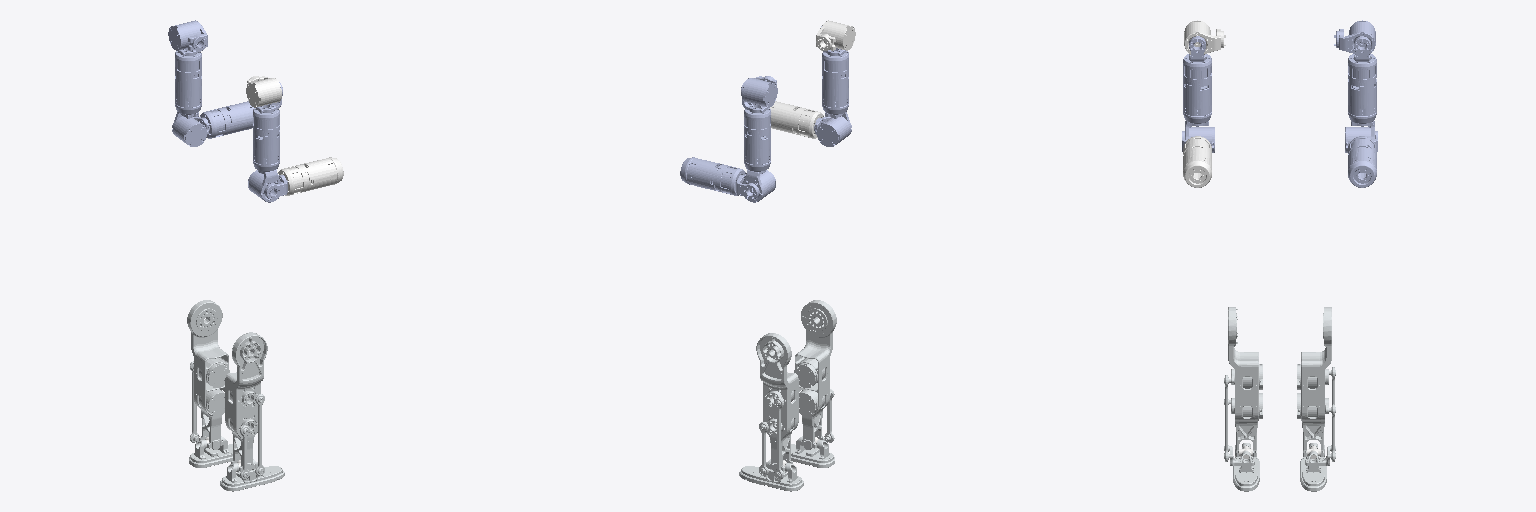
--- Facts derived from the render (not from the file) ---
Views: 3 orthographic renders of the robot side by side, from view 1: azimuth 30°, elevation 25°; view 2: azimuth 150°, elevation 25°; view 3: azimuth 270°, elevation 25°.
Model atom01urdf with 24 links and 23 joints (23 revolute), rooted at base_link, posed every joint at zero.
Visible links, largest first — view 1: left_knee_link, right_knee_link, left_arm_yaw_link, right_arm_yaw_link, right_elbow_yaw_link, left_elbow_yaw_link, right_ankle_roll_link, left_arm_pitch_link, right_arm_pitch_link, left_ankle_roll_link; view 2: right_knee_link, left_knee_link, right_arm_yaw_link, left_arm_yaw_link, left_elbow_yaw_link, right_elbow_yaw_link, left_ankle_roll_link, right_arm_pitch_link, left_arm_pitch_link, right_ankle_roll_link; view 3: left_knee_link, right_knee_link, left_arm_yaw_link, right_arm_yaw_link, right_elbow_yaw_link, left_elbow_yaw_link, left_ankle_roll_link, right_ankle_roll_link, right_arm_pitch_link, left_arm_pitch_link.
Boxes of the visible links, x1=… form: left_knee_link: x1=187, y1=300, x2=229, y2=449; right_knee_link: x1=225, y1=332, x2=267, y2=479; left_arm_yaw_link: x1=172, y1=51, x2=206, y2=146; right_arm_yaw_link: x1=248, y1=108, x2=281, y2=202; right_elbow_yaw_link: x1=278, y1=157, x2=343, y2=195; left_elbow_yaw_link: x1=200, y1=101, x2=253, y2=138; right_ankle_roll_link: x1=220, y1=459, x2=284, y2=491; left_arm_pitch_link: x1=168, y1=20, x2=207, y2=50; right_arm_pitch_link: x1=246, y1=76, x2=281, y2=107; left_ankle_roll_link: x1=189, y1=436, x2=232, y2=467; right_knee_link: x1=794, y1=300, x2=836, y2=449; left_knee_link: x1=756, y1=333, x2=798, y2=479; right_arm_yaw_link: x1=817, y1=51, x2=851, y2=146; left_arm_yaw_link: x1=742, y1=108, x2=775, y2=202; left_elbow_yaw_link: x1=680, y1=157, x2=745, y2=195; right_elbow_yaw_link: x1=770, y1=101, x2=823, y2=138; left_ankle_roll_link: x1=739, y1=459, x2=803, y2=491; right_arm_pitch_link: x1=816, y1=20, x2=855, y2=50; left_arm_pitch_link: x1=742, y1=76, x2=777, y2=107; right_ankle_roll_link: x1=791, y1=436, x2=834, y2=467; left_knee_link: x1=1297, y1=307, x2=1335, y2=461; right_knee_link: x1=1224, y1=307, x2=1262, y2=461; left_arm_yaw_link: x1=1345, y1=54, x2=1376, y2=152; right_arm_yaw_link: x1=1183, y1=54, x2=1214, y2=152; right_elbow_yaw_link: x1=1183, y1=136, x2=1211, y2=187; left_elbow_yaw_link: x1=1348, y1=136, x2=1376, y2=187; left_ankle_roll_link: x1=1300, y1=443, x2=1330, y2=491; right_ankle_roll_link: x1=1229, y1=443, x2=1259, y2=491; right_arm_pitch_link: x1=1184, y1=20, x2=1225, y2=54; left_arm_pitch_link: x1=1334, y1=20, x2=1375, y2=54.
Bounding box of the posed robot: 0.2422 × 0.4235 × 1.06 m (x, y, z).
Meshes: 24 distinct files referenced, 16 mesh visuals loaded (16 binary STL); not drawn: 8 (reference not matched to a file when rendering).

URDF robot description (atom01urdf):
<?xml version="1.0" encoding="utf-8"?>
<robot
  name="atom01urdf">
  <link
    name="base_link">
    <inertial>
    <mass value="5.38006123"/>
    <origin xyz="-0.04747316 -0.00000245 -0.01033754" rpy="0 0 0"/>
    <inertia ixx="0.03019625" ixy="0.00000001" ixz="-0.00325334"
             iyy="0.02710884" iyz="0.00000014"
             izz="0.04164465"/>
    </inertial>
    <visual>
      <origin
        xyz="0 0 0"
        rpy="0 0 0" />
      <geometry>
        <mesh
          filename="../meshes/base_link.STL" />
      </geometry>
      <material
        name="">
        <color
          rgba="0.898039215686275 0.917647058823529 0.929411764705882 1" />
      </material>
    </visual>
    <collision>
      <origin
        xyz="0 0 0"
        rpy="0 0 0" />
      <geometry>
        <mesh
          filename="../meshes/base_link.STL" />
      </geometry>
    </collision>
  </link>
  <link
    name="left_thigh_yaw_link">
    <inertial>
    <mass value="1.68866185"/>
    <origin xyz="-0.03860399 0.00000000 -0.05488876" rpy="0 0 0"/>
    <inertia ixx="0.00828412" ixy="0.00000001" ixz="-0.00427630"
             iyy="0.01007750" iyz="0.00000000"
             izz="0.00500466"/>
    </inertial>
    <visual>
      <origin
        xyz="0 0 0"
        rpy="0 0 0" />
      <geometry>
        <mesh
          filename="../meshes/left_thigh_yaw_link.STL" />
      </geometry>
      <material
        name="">
        <color
          rgba="0.898039215686275 0.917647058823529 0.929411764705882 1" />
      </material>
    </visual>
    <!-- <collision>
      <origin
        xyz="0 0 0"
        rpy="0 0 0" />
      <geometry>
        <mesh
          filename="../meshes/left_thigh_yaw_link.STL" />
      </geometry>
    </collision> -->
  </link>
  <joint
    name="left_thigh_yaw_joint"
    type="revolute">
    <origin
      xyz="-0.071093 0.0725 -0.051778"
      rpy="0 0 0" />
    <parent
      link="base_link" />
    <child
      link="left_thigh_yaw_link" />
    <axis
      xyz="-0.5 0 -0.86603" />    
    <limit
      lower="-1"
      upper="0.2"
      effort="80"
      velocity="10.47" />
  </joint>
  <link
    name="left_thigh_roll_link">
    <inertial>
    <mass value="1.71632646"/>
    <origin xyz="0.05565085 -0.00585964 -0.03213037" rpy="0 0 0"/>
    <inertia ixx="0.00408080" ixy="0.00060873" ixz="0.00328672"
             iyy="0.01086273" iyz="-0.00035146"
             izz="0.00787597"/>
    </inertial>
    <visual>
      <origin
        xyz="0 0 0"
        rpy="0 0 0" />
      <geometry>
        <mesh
          filename="../meshes/left_thigh_roll_link.STL" />
      </geometry>
      <material
        name="">
        <color
          rgba="0.752941176470588 0.752941176470588 0.752941176470588 1" />
      </material>
    </visual>
    <!-- <collision>
      <origin
        xyz="0 0 0"
        rpy="0 0 0" />
      <geometry>
        <mesh
          filename="../meshes/left_thigh_roll_link.STL" />
      </geometry>
    </collision> -->
  </link>
  <joint
    name="left_thigh_roll_joint"
    type="revolute">
    <origin
      xyz="-0.017693 0 -0.072346"
      rpy="0 0 0" />
    <parent
      link="left_thigh_yaw_link" />
    <child
      link="left_thigh_roll_link" />
    <axis
      xyz="0.86603 0 -0.5" />
    <limit
      lower="-0.2"
      upper="1"
      effort="80"
      velocity="10.47" />
  </joint>
  <link
    name="left_thigh_pitch_link">
    <inertial>
    <mass value="2.34600762"/>
    <origin xyz="0.00004587 -0.01904764 -0.19858147" rpy="0 0 0"/>
    <inertia ixx="0.11355467" ixy="-0.00000105" ixz="0.00003567"
             iyy="0.11410206" iyz="-0.01102469"
             izz="0.00388054"/>
    </inertial>
    <visual>
      <origin
        xyz="0 0 0"
        rpy="0 0 0" />
      <geometry>
        <mesh
          filename="../meshes/left_thigh_pitch_link.STL" />
      </geometry>
      <material
        name="">
        <color
          rgba="0.898039215686275 0.917647058823529 0.929411764705882 1" />
      </material>
    </visual>
    <!-- <collision>
      <origin
        xyz="0 0 0"
        rpy="0 0 0" />
      <geometry>
        <mesh
          filename="../meshes/left_thigh_pitch_link.STL" />
      </geometry>
    </collision> -->
    <collision>
      <origin
        xyz="0.0 0 -0.08"
        rpy="0 0 0" />
      <geometry>
        <box name="left_thigh_pitch_link" size="0.08 0.1 0.22"/>
      </geometry>
    </collision>
  </link>
  <joint
    name="left_thigh_pitch_joint"
    type="revolute">
    <origin
      xyz="0.060622 0.02085 -0.035"
      rpy="0 0 0" />
    <parent
      link="left_thigh_roll_link" />
    <child
      link="left_thigh_pitch_link" />
    <axis
      xyz="0 1 0" />
    <limit
      lower="-1.57"
      upper="1.57"
      effort="80"
      velocity="10.47" />
  </joint>
  <link
    name="left_knee_link">
    <inertial>
    <mass value="1.79036871"/>
    <origin xyz="-0.00032236 -0.01251629 -0.14554011" rpy="0 0 0"/>
    <inertia ixx="0.05037722" ixy="0.00001321" ixz="-0.00005629"
             iyy="0.04980070" iyz="-0.00362648"
             izz="0.00144706"/>
    </inertial>
    <visual>
      <origin
        xyz="0 0 0"
        rpy="0 0 0" />
      <geometry>
        <mesh
          filename="../meshes/left_knee_link.STL" />
      </geometry>
      <material
        name="">
        <color
          rgba="0.898039215686275 0.917647058823529 0.929411764705882 1" />
      </material>
    </visual>
    <!-- <collision>
      <origin
        xyz="0 0 0"
        rpy="0 0 0" />
      <geometry>
        <mesh
          filename="../meshes/left_knee_link.STL" />
      </geometry>
    </collision> -->
    <collision>
      <origin
        xyz="0.0 0 -0.15"
        rpy="0 0 0" />
      <geometry>
        <box name="right_knee_link" size="0.08 0.08 0.22"/>
      </geometry>
    </collision>
  </link>
  <joint
    name="left_knee_joint"
    type="revolute">
    <origin
      xyz="0 0 -0.25"
      rpy="0 0 0" />
    <parent
      link="left_thigh_pitch_link" />
    <child
      link="left_knee_link" />
    <axis
      xyz="0 1 0" />
    <limit
      lower="-0.2"
      upper="2.5"
      effort="80"
      velocity="10.47" />
  </joint>
  <link
    name="left_ankle_pitch_link">
    <inertial>
      <origin
        xyz="0 0 0"
        rpy="0 0 0" />
      <mass
        value="0.084" />
      <inertia
        ixx="0.00000863"
        ixy="0"
        ixz="0"
        iyy="0.00000863"
        iyz="0"
        izz="0.00001448" />
    </inertial>
    <visual>
      <origin
        xyz="0 0 0"
        rpy="0 0 0" />
      <geometry>
        <mesh
          filename="../meshes/left_ankle_pitch_link.STL" />
      </geometry>
      <material
        name="">
        <color
          rgba="1 1 1 1" />
      </material>
    </visual>
    <!-- <collision>
      <origin
        xyz="0 0 0"
        rpy="0 0 0" />
      <geometry>
        <mesh
          filename="../meshes/left_ankle_pitch_link.STL" />
      </geometry>
    </collision> -->
  </link>
  <joint
    name="left_ankle_pitch_joint"
    type="revolute">
    <origin
      xyz="0 -0.02085 -0.3"
      rpy="0 0 0" />
    <parent
      link="left_knee_link" />
    <child
      link="left_ankle_pitch_link" />
    <axis
      xyz="0 1 0" />
    <limit
      lower="-0.6"
      upper="0.6"
      effort="18"
      velocity="3.7692" />
  </joint>
  <link
    name="left_ankle_roll_link">
    <inertial>
      <origin
        xyz="0.01590617  0.00230268 -0.02949007"
        rpy="0 0 0" />
      <mass
        value="0.30640039 " />
      <inertia ixx="0.00038476" ixy="0.0" ixz="0.00017084"
           iyy="0.00086435" iyz="0.00000894"
           izz="0.00063926"/>
    </inertial>
    <visual>
      <origin
        xyz="0 0 0"
        rpy="0 0 0" />
      <geometry>
        <mesh
          filename="../meshes/left_ankle_roll_link.STL" />
      </geometry>
      <material
        name="">
        <color
          rgba="0.898039215686275 0.917647058823529 0.929411764705882 1" />
      </material>
    </visual>
    <collision>
      <origin
        xyz="0 0 0"
        rpy="0 0 0" />
      <geometry>
        <mesh
          filename="../meshes/left_ankle_roll_link.STL" />
      </geometry>
    </collision>
  </link>
  <joint
    name="left_ankle_roll_joint"
    type="revolute">
    <origin
      xyz="0 0 0"
      rpy="0 0 0" />
    <parent
      link="left_ankle_pitch_link" />
    <child
      link="left_ankle_roll_link" />
    <axis
      xyz="1 0 0" />
    <limit
      lower="-0.5"
      upper="0.5"
      effort="18"
      velocity="3.7692" />
  </joint>
  <link
    name="right_thigh_yaw_link">
    <inertial>
    <mass value="1.68565743"/>
    <origin xyz="-0.03859500 0.00000000 -0.05502715" rpy="0 0 0"/>
    <inertia ixx="0.00828370" ixy="0.00000001" ixz="-0.00427632"
             iyy="0.01007691" iyz="0.00000000"
             izz="0.00500350"/>
    </inertial>
    <visual>
      <origin
        xyz="0 0 0"
        rpy="0 0 0" />
      <geometry>
        <mesh
          filename="../meshes/right_thigh_yaw_link.STL" />
      </geometry>
      <material
        name="">
        <color
          rgba="0.898039215686275 0.917647058823529 0.929411764705882 1" />
      </material>
    </visual>
    <!-- <collision>
      <origin
        xyz="0 0 0"
        rpy="0 0 0" />
      <geometry>
        <mesh
          filename="../meshes/right_thigh_yaw_link.STL" />
      </geometry>
    </collision> -->
  </link>
  <joint
    name="right_thigh_yaw_joint"
    type="revolute">
    <origin
      xyz="-0.071093 -0.0725 -0.051778"
      rpy="0 0 0" />
    <parent
      link="base_link" />
    <child
      link="right_thigh_yaw_link" />
    <axis
      xyz="-0.5 0 -0.86603" />
    <limit
      lower="-0.2"
      upper="1"
      effort="80"
      velocity="10.47" />
  </joint>
  <link
    name="right_thigh_roll_link">
    <inertial>
    <mass value="1.71632646"/>
    <origin xyz="0.05695017 0.00585964 -0.03287986" rpy="0 0 0"/>
    <inertia ixx="0.00416447" ixy="-0.00062180" ixz="0.00343166"
             iyy="0.01119747" iyz="0.00035899"
             izz="0.00812703"/>
    </inertial>
    <visual>
      <origin
        xyz="0 0 0"
        rpy="0 0 0" />
      <geometry>
        <mesh
          filename="../meshes/right_thigh_roll_link.STL" />
      </geometry>
      <material
        name="">
        <color
          rgba="0.898039215686275 0.917647058823529 0.929411764705882 1" />
      </material>
    </visual>
    <!-- <collision>
      <origin
        xyz="0 0 0"
        rpy="0 0 0" />
      <geometry>
        <mesh
          filename="../meshes/right_thigh_roll_link.STL" />
      </geometry>
    </collision> -->
  </link>
  <joint
    name="right_thigh_roll_joint"
    type="revolute">
    <origin
      xyz="-0.0189924084475403 0 -0.0715958163677252"
      rpy="0 0 0" />
    <parent
      link="right_thigh_yaw_link" />
    <child
      link="right_thigh_roll_link" />
    <axis
      xyz="0.86603 0 -0.5" />
    <limit
      lower="-1"
      upper="0.2"
      effort="80"
      velocity="10.47" />
  </joint>
  <link
    name="right_thigh_pitch_link">
    <inertial>
    <mass value="2.34600762"/>
    <origin xyz="0.00004584 0.01904764 -0.19858147" rpy="0 0 0"/>
    <inertia ixx="0.11355467" ixy="0.00000105" ixz="0.00003566"
             iyy="0.11410206" iyz="0.01102469"
             izz="0.00388054"/>
    </inertial>
    <visual>
      <origin
        xyz="0 0 0"
        rpy="0 0 0" />
      <geometry>
        <mesh
          filename="../meshes/right_thigh_pitch_link.STL" />
      </geometry>
      <material
        name="">
        <color
          rgba="0.898039215686275 0.917647058823529 0.929411764705882 1" />
      </material>
    </visual>
    <!-- <collision>
      <origin
        xyz="0 0 0"
        rpy="0 0 0" />
      <geometry>
        <mesh
          filename="../meshes/right_thigh_pitch_link.STL" />
      </geometry>
    </collision> -->
     <collision>
      <origin
        xyz="0.0 0 -0.08"
        rpy="0 0 0" />
      <geometry>
        <box name="right_thigh_pitch_link" size="0.08 0.1 0.22"/>
      </geometry>
    </collision>
  </link>
  <joint
    name="right_thigh_pitch_joint"
    type="revolute">
    <origin
      xyz="0.0619208163652291 -0.0208499999999942 -0.0357500000093095"
      rpy="0 0 0" />
    <parent
      link="right_thigh_roll_link" />
    <child
      link="right_thigh_pitch_link" />
    <axis
      xyz="0 1 0" />
    <limit
      lower="-1.57"
      upper="1.57"
      effort="80"
      velocity="10.47" />
  </joint>
  <link
    name="right_knee_link">
    <inertial>
    <mass value="1.79036871"/>
    <origin xyz="0.00034876 0.01251629 -0.14550316" rpy="0 0 0"/>
    <inertia ixx="0.05035671" ixy="0.00001321" ixz="0.00006361"
             iyy="0.04978019" iyz="0.00362648"
             izz="0.00144706"/>
    </inertial>
    <visual>
      <origin
        xyz="0 0 0"
        rpy="0 0 0" />
      <geometry>
        <mesh
          filename="../meshes/right_knee_link.STL" />
      </geometry>
      <material
        name="">
        <color
          rgba="0.898039215686275 0.917647058823529 0.929411764705882 1" />
      </material>
    </visual>
    <!-- <collision>
      <origin
        xyz="0 0 0"
        rpy="0 0 0" />
      <geometry>
        <mesh
          filename="../meshes/right_knee_link.STL" />
      </geometry>
    </collision> -->
    <collision>
      <origin
        xyz="0.0 0 -0.15"
        rpy="0 0 0" />
      <geometry>
        <box name="right_knee_link" size="0.08 0.08 0.22"/>
      </geometry>
    </collision>
  </link>
  <joint
    name="right_knee_joint"
    type="revolute">
    <origin
      xyz="0 0 -0.250000000000016"
      rpy="0 0 0" />
    <parent
      link="right_thigh_pitch_link" />
    <child
      link="right_knee_link" />
    <axis
      xyz="0 1 0" />
    <limit
      lower="-0.2"
      upper="2.5"
      effort="80"
      velocity="10.47" />
  </joint>
  <link
    name="right_ankle_pitch_link">
    <inertial>
      <origin
        xyz="0 0 0"
        rpy="0 0 0" />
      <mass
        value="0.084" />
      <inertia
        ixx="0.00000863"
        ixy="0"
        ixz="0"
        iyy="0.00000863"
        iyz="0"
        izz="0.00001448" />
    </inertial>
    <visual>
      <origin
        xyz="0 0 0"
        rpy="0 0 0" />
      <geometry>
        <mesh
          filename="../meshes/right_ankle_pitch_link.STL" />
      </geometry>
      <material
        name="">
        <color
          rgba="1 1 1 1" />
      </material>
    </visual>
    <!-- <collision>
      <origin
        xyz="0 0 0"
        rpy="0 0 0" />
      <geometry>
        <mesh
          filename="../meshes/right_ankle_pitch_link.STL" />
      </geometry>
    </collision> -->
  </link>
  <joint
    name="right_ankle_pitch_joint"
    type="revolute">
    <origin
      xyz="0 0.0208500000000073 -0.299999999999986"
      rpy="0 0 0" />
    <parent
      link="right_knee_link" />
    <child
      link="right_ankle_pitch_link" />
    <axis
      xyz="0 1 0" />
    <limit
      lower="-0.6"
      upper="0.6"
      effort="18"
      velocity="3.7692" />
  </joint>
  <link
    name="right_ankle_roll_link">
    <inertial>
      <origin
        xyz="0.01590617 -0.00230290  -0.02949007"
        rpy="0 0 0" />
      <mass
        value=" 0.30640039" />
       <inertia ixx="0.00038476" ixy="0.00000000" ixz="0.00017084"
           iyy="0.00086435" iyz="-0.00000894"
           izz="0.00063926"/>
    </inertial>
    <visual>
      <origin
        xyz="0 0 0"
        rpy="0 0 0" />
      <geometry>
        <mesh
          filename="../meshes/right_ankle_roll_link.STL" />
      </geometry>
      <material
        name="">
        <color
          rgba="0.898039215686275 0.917647058823529 0.929411764705882 1" />
      </material>
    </visual>
    <collision>
      <origin
        xyz="0 0 0"
        rpy="0 0 0" />
      <geometry>
        <mesh
          filename="../meshes/right_ankle_roll_link.STL" />
      </geometry>
    </collision>
  </link>
  <joint
    name="right_ankle_roll_joint"
    type="revolute">
    <origin
      xyz="0 0 0"
      rpy="0 0 0" />
    <parent
      link="right_ankle_pitch_link" />
    <child
      link="right_ankle_roll_link" />
    <axis
      xyz="1 0 0" />
    <limit
      lower="-0.5"
      upper="0.5"
      effort="18"
      velocity="3.7692" />
  </joint>
  <link
    name="torso_link">
    <inertial>
      <origin
        xyz=" -0.00232713 -0.00003499 0.09671181"
        rpy="0 0 0" />
      <mass
        value="7.70005232 " />
       <inertia ixx="0.14285885" ixy="-0.00004101" ixz="0.00400640"
           iyy="0.13043257" iyz="0.00003257"
           izz="0.03968469"/>
    </inertial>
    <visual>
      <origin
        xyz="0 0 0"
        rpy="0 0 0" />
      <geometry>
        <mesh
          filename="../meshes/torso_link.STL" />
      </geometry>
      <material
        name="">
        <color
          rgba="1 1 1 1" />
      </material>
    </visual>
    <collision>
      <origin
        xyz="0 0 0.15"
        rpy="0 0 0" />
      <geometry>
        <box name="torso_link" size="0.16 0.16 0.22"/>
      </geometry>
    </collision>
  </link>
  <joint
    name="torso_joint"
    type="revolute">
    <origin
      xyz="-0.0281649492242451 0 0.0672000000054882"
      rpy="0 0 0" />
    <parent
      link="base_link" />
    <child
      link="torso_link" />
    <axis
      xyz="0 0 1" />
    <limit
      lower="-3.14"
      upper="3.14"
      effort="80"
      velocity="10.47" />
  </joint>
  <link
    name="left_arm_pitch_link">
    <inertial>
    <mass value="0.47178757"/>
    <origin xyz="-0.00442275 0.04993792 0.00005596" rpy="0 0 0"/>
    <inertia ixx="0.00133228" ixy="0.00012643" ixz="-0.00000056"
             iyy="0.00008982" iyz="-0.00000148"
             izz="0.00137408"/>
    </inertial>
    <visual>
      <origin
        xyz="0 0 0"
        rpy="0 0 0" />
      <geometry>
        <mesh
          filename="../meshes/left_arm_pitch_link.STL" />
      </geometry>
      <material
        name="">
        <color
          rgba="0.796078431372549 0.823529411764706 0.937254901960784 1" />
      </material>
    </visual>
    <collision>
      <origin
        xyz="0 0.055 0"
        rpy="0 1.57 0" />
      <geometry>
         <cylinder radius="0.03" length="0.05"/>
      </geometry>
    </collision>
  </link>
  <joint
    name="left_arm_pitch_joint"
    type="revolute">
    <origin
      xyz="0 0.121749999999383 0.206175860782433"
      rpy="0 0 0" />
    <parent
      link="torso_link" />
    <child
      link="left_arm_pitch_link" />
    <axis
      xyz="0 1 0" />
    <limit
      lower="-3.14"
      upper="1.57"
      effort="18"
      velocity="3.7692" />
  </joint>
  <link
    name="left_arm_roll_link">
    <inertial>
      <origin
        xyz="-0.00433076 0 -0.02378501"
        rpy="0 0 0" />
      <mass
        value="0.09168685" />
     <inertia ixx="0.00010210" ixy="0.0" ixz="-0.00002948"
           iyy="0.00011636" iyz="0.0"
           izz="0.00003231"/>
    </inertial>
    <visual>
      <origin
        xyz="0 0 0"
        rpy="0 0 0" />
      <geometry>
        <mesh
          filename="../meshes/left_arm_roll_link.STL" />
      </geometry>
      <material
        name="">
        <color
          rgba="0.796078431372549 0.823529411764706 0.937254901960784 1" />
      </material>
    </visual>
    <collision>
      <origin
        xyz="-0.02 0 -0.12"
        rpy="0 0 0" />
      <geometry>
         <cylinder radius="0.03" length="0.10"/>
      </geometry>
    </collision>
  </link>
  <joint
    name="left_arm_roll_joint"
    type="revolute">
    <origin
      xyz="0.0200000000000018 0.056 0"
      rpy="0 0 0" />
    <parent
      link="left_arm_pitch_link" />
    <child
      link="left_arm_roll_link" />
    <axis
      xyz="1 0 0" />
    <limit
      lower="-0.25"
      upper="3.14"
      effort="18"
      velocity="3.7692" />
  </joint>
  <link
    name="left_arm_yaw_link">
    <inertial>
    <mass value="1.15324429"/>
    <origin xyz="-0.00004328 -0.00182110 -0.10615897" rpy="0 0 0"/>
    <inertia ixx="0.01919610" ixy="-0.00000011" ixz="-0.00000607"
             iyy="0.01915491" iyz="-0.00040415"
             izz="0.00033463"/>
    </inertial>
    <visual>
      <origin
        xyz="0 0 0"
        rpy="0 0 0" />
      <geometry>
        <mesh
          filename="../meshes/left_arm_yaw_link.STL" />
      </geometry>
      <material
        name="">
        <color
          rgba="0.796078431372549 0.823529411764706 0.937254901960784 1" />
      </material>
    </visual>
    <collision>
      <origin
        xyz="0 0 -0.19"
        rpy="0 1.57 1.57" />
      <geometry>
        <cylinder radius="0.03" length="0.05"/>
      </geometry>
    </collision>
  </link>
  <joint
    name="left_arm_yaw_joint"
    type="revolute">
    <origin
      xyz="-0.0200000000000002 0 -0.049999999999998"
      rpy="0 0 0" />
    <parent
      link="left_arm_roll_link" />
    <child
      link="left_arm_yaw_link" />
    <axis
      xyz="0 0 -1" />
    <limit
      lower="-1.57"
      upper="1.57"
      effort="18"
      velocity="3.7692" />
  </joint>
  <link
    name="left_elbow_pitch_link">
    <inertial>
      <origin
        xyz="0.02378501 -0.00433076  0.00000000"
        rpy="0 0 0" />
      <mass
        value="0.09168685" />
       <inertia ixx="0.00003231" ixy="0.00002948" ixz="0.0"
           iyy="0.00010210" iyz="0.0"
           izz="0.00011636"/>
    </inertial>
    <visual>
      <origin
        xyz="0 0 0"
        rpy="0 0 0" />
      <geometry>
        <mesh
          filename="../meshes/left_elbow_pitch_link.STL" />
      </geometry>
      <material
        name="">
        <color
          rgba="0.796078431372549 0.823529411764706 0.937254901960784 1" />
      </material>
    </visual>
    <collision>
      <origin
        xyz="0.10 -0.02 0"
        rpy="0 1.57 0" />
      <geometry>
          <cylinder radius="0.03" length="0.10"/>
      </geometry>
    </collision>
  </link>
  <joint
    name="left_elbow_pitch_joint"
    type="revolute">
    <origin
      xyz="0 0.0199999999999982 -0.188749999999997"
      rpy="0 0 0" />
    <parent
      link="left_arm_yaw_link" />
    <child
      link="left_elbow_pitch_link" />
    <axis
      xyz="0 1 0" />
    <limit
      lower="-0.6"
      upper="1.57"
      effort="18"
      velocity="3.7692" />
  </joint>
  <link
    name="left_elbow_yaw_link">
    <inertial>
    <mass value="0.68145673"/>
    <origin xyz="0.05317629 -0.00003450 -0.00001992" rpy="0 0 0"/>
    <inertia ixx="0.00024481" ixy="0.00000117" ixz="0.00000058"
             iyy="0.00325259" iyz="-0.00000060"
             izz="0.00325345"/>
    </inertial>
    <visual>
      <origin
        xyz="0 0 0"
        rpy="0 0 0" />
      <geometry>
        <mesh
          filename="../meshes/left_elbow_yaw_link.STL" />
      </geometry>
      <material
        name="">
        <color
          rgba="0.796078431372549 0.823529411764706 0.937254901960784 1" />
      </material>
    </visual>
    <!-- <collision>
      <origin
        xyz="0 0 0"
        rpy="0 0 0" />
      <geometry>
        <mesh
          filename="../meshes/left_elbow_yaw_link.STL" />
      </geometry>
    </collision> -->
  </link>
  <joint
    name="left_elbow_yaw_joint"
    type="revolute">
    <origin
      xyz="0.0499999999999968 -0.0199999999999994 0"
      rpy="0 0 0" />
    <parent
      link="left_elbow_pitch_link" />
    <child
      link="left_elbow_yaw_link" />
    <axis
      xyz="1 0 0" />
    <limit
      lower="-1.57"
      upper="1.57"
      effort="18"
      velocity="3.7692" />
  </joint>
  <link
    name="right_arm_pitch_link">
    <inertial>
    <mass value="0.47178757"/>
    <origin xyz="-0.00442275 -0.04993792 0.00005596" rpy="0 0 0"/>
    <inertia ixx="0.00133228" ixy="-0.00012643" ixz="-0.00000056"
             iyy="0.00008982" iyz="0.00000148"
             izz="0.00137408"/>
    </inertial>
    <visual>
      <origin
        xyz="0 0 0"
        rpy="0 0 0" />
      <geometry>
        <mesh
          filename="../meshes/right_arm_pitch_link.STL" />
      </geometry>
      <material
        name="">
        <color
          rgba="1 1 1 1" />
      </material>
    </visual>
    <collision>
      <origin
        xyz="0 -0.055 0"
        rpy="0 1.57 0" />
      <geometry>
         <cylinder radius="0.03" length="0.05"/>
      </geometry>
    </collision>
  </link>
  <joint
    name="right_arm_pitch_joint"
    type="revolute">
    <origin
      xyz="0 -0.121750000000346 0.206175860781721"
      rpy="0 0 0" />
    <parent
      link="torso_link" />
    <child
      link="right_arm_pitch_link" />
    <axis
      xyz="0 1 0" />
    <limit
      lower="-3.14"
      upper="1.57"
      effort="18"
      velocity="3.7692" />
  </joint>
  <link
    name="right_arm_roll_link">
    <inertial>
      <origin
        xyz="-0.00433076 0.00000000  -0.02378501"
        rpy="0 0 0" />
      <mass
        value="0.09168685" />
 <inertia ixx="0.00010210" ixy="0.0" ixz="-0.00002948"
           iyy="0.00011636" iyz="0.0"
           izz="0.00003231"/>
    </inertial>
    <visual>
      <origin
        xyz="0 0 0"
        rpy="0 0 0" />
      <geometry>
        <mesh
          filename="../meshes/right_arm_roll_link.STL" />
      </geometry>
      <material
        name="">
        <color
          rgba="0.796078431372549 0.823529411764706 0.937254901960784 1" />
      </material>
    </visual>
     <collision>
      <origin
        xyz="-0.02 0 -0.12"
        rpy="0 0 0" />
      <geometry>
         <cylinder radius="0.03" length="0.10"/>
      </geometry>
    </collision>
  </link>
  <joint
    name="right_arm_roll_joint"
    type="revolute">
    <origin
      xyz="0.0200000000000407 -0.056 0"
      rpy="0 0 0" />
    <parent
      link="right_arm_pitch_link" />
    <child
      link="right_arm_roll_link" />
    <axis
      xyz="1 0 0" />
    <limit
      lower="-3.14"
      upper="0.25"
      effort="18"
      velocity="3.7692" />
  </joint>
  <link
    name="right_arm_yaw_link">
    <inertial>
    <mass value="1.15324429"/>
    <origin xyz="-0.00002289 0.00183287 -0.10615897" rpy="0 0 0"/>
    <inertia ixx="0.01919714" ixy="-0.00000049" ixz="-0.00000506"
             iyy="0.01915387" iyz="0.00040473"
             izz="0.00033463"/>
    </inertial>
    <visual>
      <origin
        xyz="0 0 0"
        rpy="0 0 0" />
      <geometry>
        <mesh
          filename="../meshes/right_arm_yaw_link.STL" />
      </geometry>
      <material
        name="">
        <color
          rgba="0.796078431372549 0.823529411764706 0.937254901960784 1" />
      </material>
    </visual>
    <collision>
      <origin
        xyz="0 0 -0.19"
        rpy="0 1.57 1.57" />
      <geometry>
        <cylinder radius="0.03" length="0.05"/>
      </geometry>
    </collision>
  </link>
  <joint
    name="right_arm_yaw_joint"
    type="revolute">
    <origin
      xyz="-0.02 0 -0.0500000000000019"
      rpy="0 0 0" />
    <parent
      link="right_arm_roll_link" />
    <child
      link="right_arm_yaw_link" />
    <axis
      xyz="0 0 -1" />
    <limit
      lower="-1.57"
      upper="1.57"
      effort="18"
      velocity="3.7692" />
  </joint>
  <link
    name="right_elbow_pitch_link">
    <inertial>
      <origin
        xyz="0.02378501  0.00433076 0"
        rpy="0 0 0" />
      <mass
        value="0.09168685" />
      <inertia ixx="0.00003231" ixy="-0.00002948" ixz="0.0"
           iyy="0.00010210" iyz="0.0"
           izz="0.00011636"/>
    </inertial>
    <visual>
      <origin
        xyz="0 0 0"
        rpy="0 0 0" />
      <geometry>
        <mesh
          filename="../meshes/right_elbow_pitch_link.STL" />
      </geometry>
      <material
        name="">
        <color
          rgba="0.796078431372549 0.823529411764706 0.937254901960784 1" />
      </material>
    </visual>
    <collision>
      <origin
        xyz="0.10 0.02 0"
        rpy="0 1.57 0" />
      <geometry>
          <cylinder radius="0.03" length="0.10"/>
      </geometry>
    </collision>
  </link>
  <joint
    name="right_elbow_pitch_joint"
    type="revolute">
    <origin
      xyz="0 -0.0200000000000019 -0.18875"
      rpy="0 0 0" />
    <parent
      link="right_arm_yaw_link" />
    <child
      link="right_elbow_pitch_link" />
    <axis
      xyz="0 1 0" />
    <limit
      lower="-0.6"
      upper="1.57"
      effort="18"
      velocity="3.7692" />
  </joint>
  <link
    name="right_elbow_yaw_link">
    <inertial>
    <mass value="0.68145673"/>
    <origin xyz="0.05317629 0.00003450 0.00001992" rpy="0 0 0"/>
    <inertia ixx="0.00024481" ixy="-0.00000117" ixz="-0.00000058"
             iyy="0.00325259" iyz="-0.00000060"
             izz="0.00325345"/>
    </inertial>
    <visual>
      <origin
        xyz="0 0 0"
        rpy="0 0 0" />
      <geometry>
        <mesh
          filename="../meshes/right_elbow_yaw_link.STL" />
      </geometry>
      <material
        name="">
        <color
          rgba="1 1 1 1" />
      </material>
    </visual>
    <!-- <collision>
      <origin
        xyz="0 0 0"
        rpy="0 0 0" />
      <geometry>
        <mesh
          filename="../meshes/right_elbow_yaw_link.STL" />
      </geometry>
    </collision> -->
  </link>
  <joint
    name="right_elbow_yaw_joint"
    type="revolute">
    <origin
      xyz="0.0500000000000002 0.0200000000000004 0"
      rpy="0 0 0" />
    <parent
      link="right_elbow_pitch_link" />
    <child
      link="right_elbow_yaw_link" />
    <axis
      xyz="1 0 0" />
    <limit
      lower="-1.57"
      upper="1.57"
      effort="18"
      velocity="3.7692" />
  </joint>
</robot>
